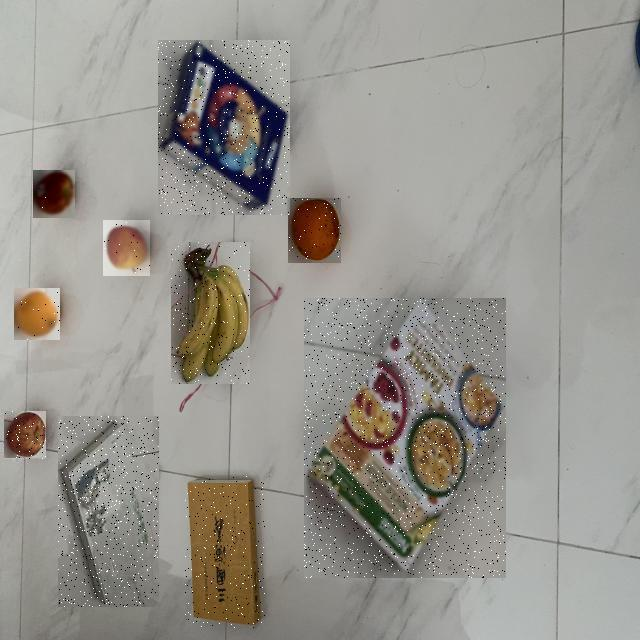apple: (28, 138, 178, 414), (0, 109, 70, 327), (0, 231, 27, 640)
banana: (46, 192, 296, 576)
orange: (118, 132, 458, 394), (0, 170, 44, 510)
